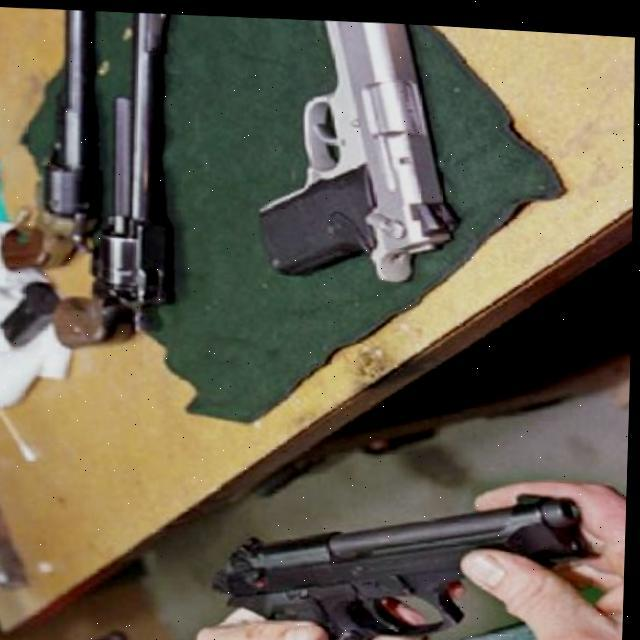gun: (184, 450, 623, 640), (224, 11, 485, 290), (38, 4, 176, 348), (0, 3, 98, 275)
